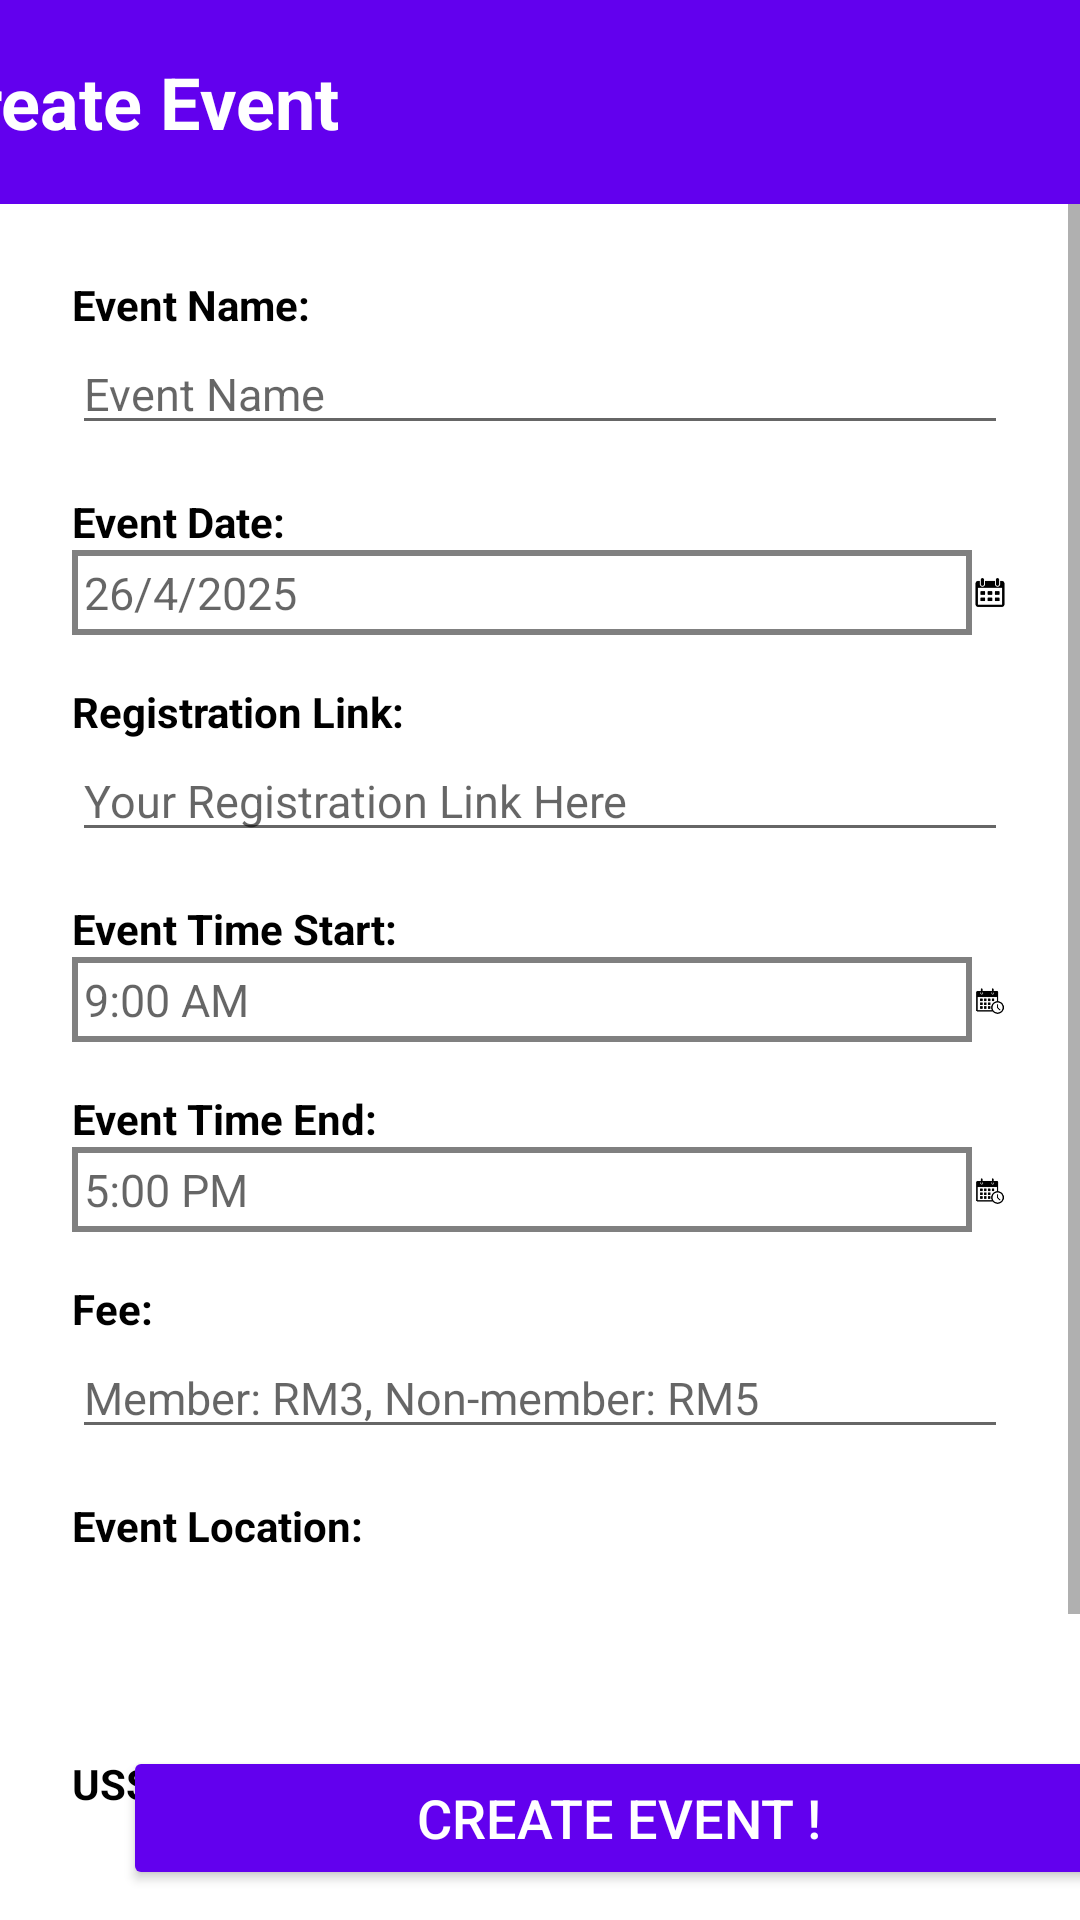

Icons on this 1080px×1920px Android screen, each with the point to tap as point (x, y):
calendar: point (990, 592)
calendar clock: point (990, 1001), point (990, 1191)
